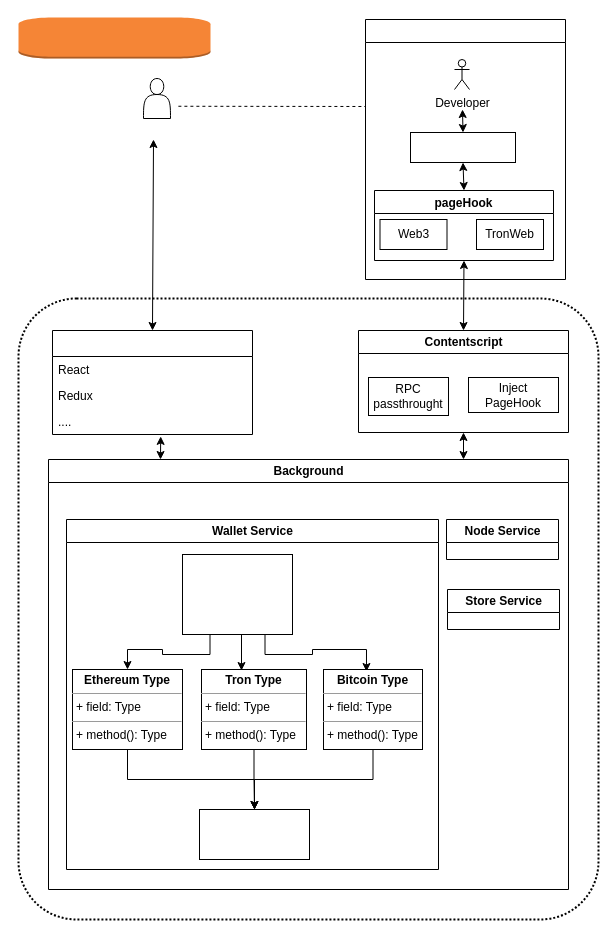
This 616x938 diagram has some shape labels left out. Here are the shapes that lost their labels. From the top down, the box of each, then its label:
(18, 16, 210, 58): ezPay architecture
(142, 78, 170, 118): User
(410, 132, 516, 162): UI Code
(364, 18, 566, 280): Web Dapp
(52, 330, 252, 434): Popup
(182, 554, 292, 634): Account + field: Type + method(): Type
(198, 808, 310, 860): Object: Account
